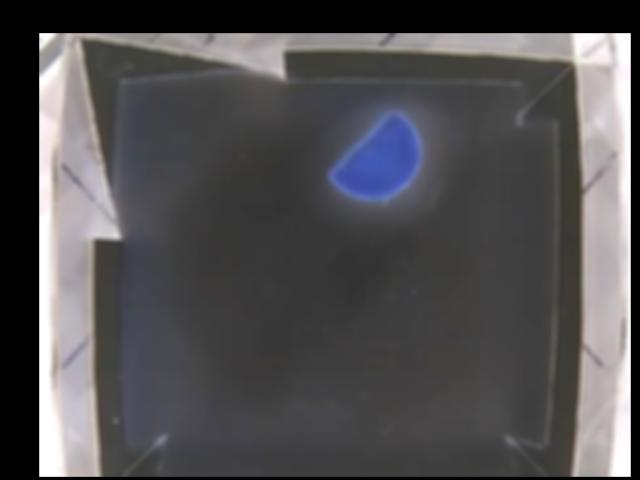Potato: (328, 111, 421, 206)
